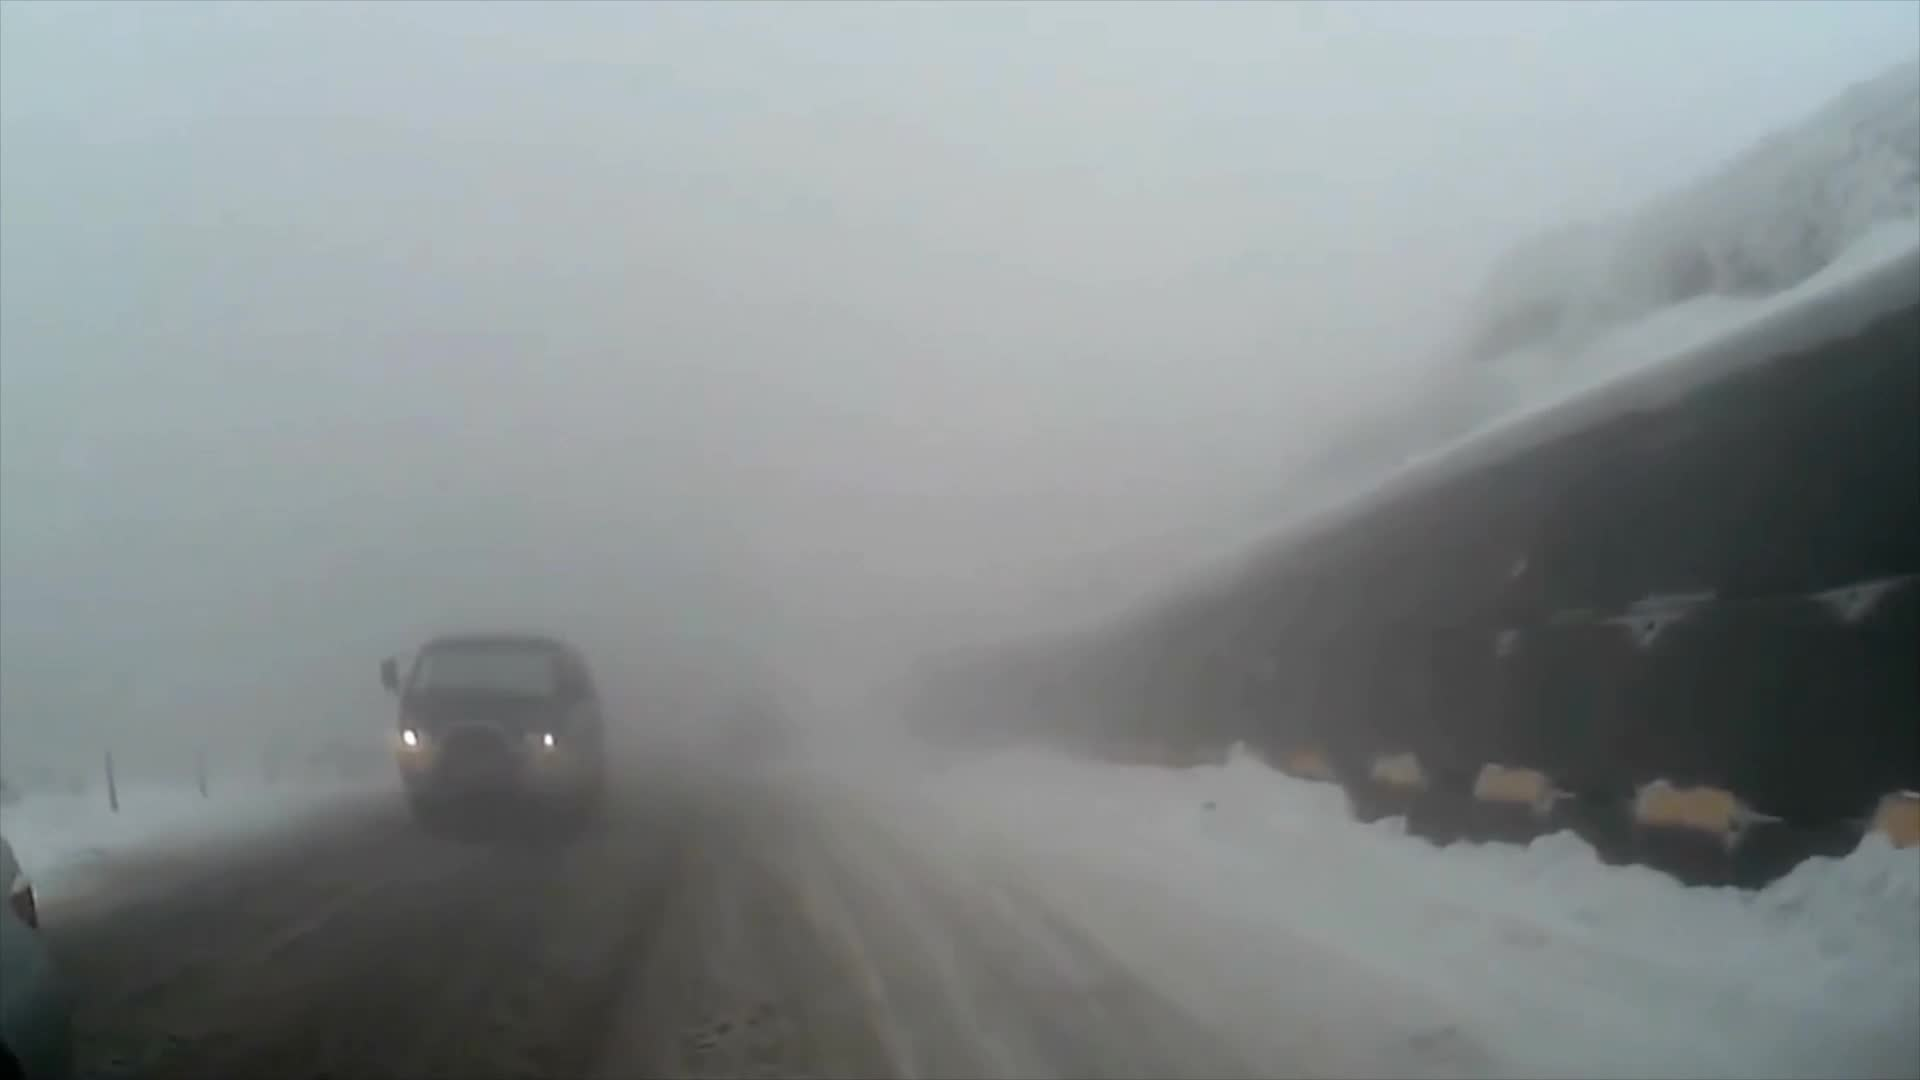vehicle: (375, 630, 607, 836), (0, 851, 71, 1079)
